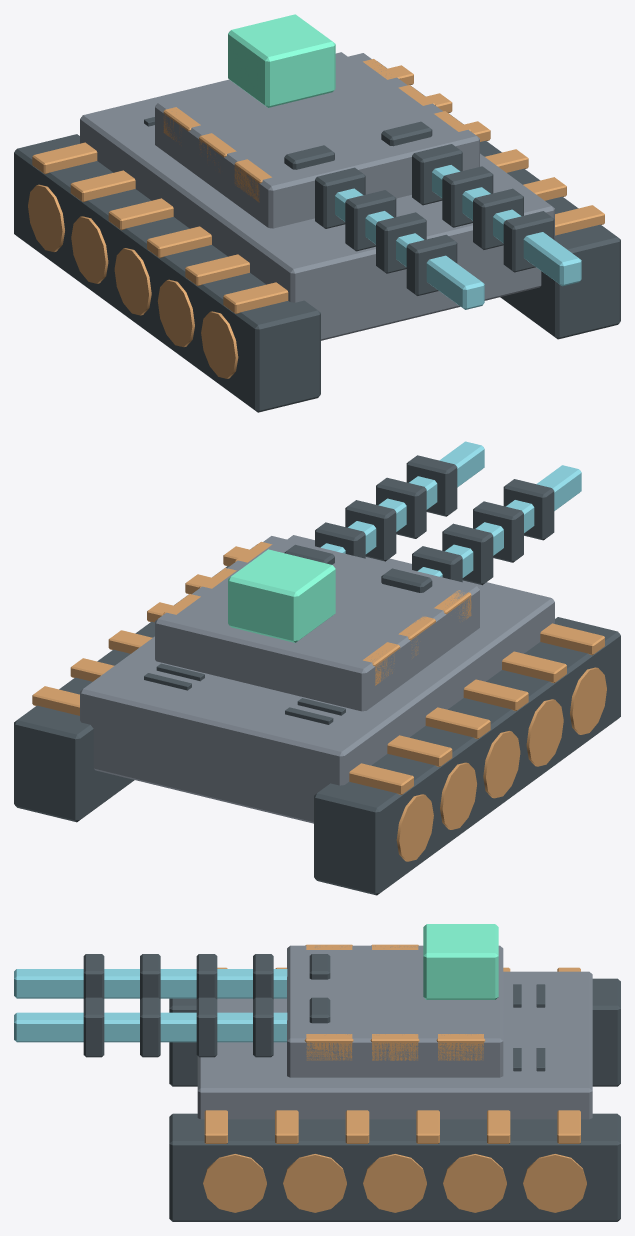
File: boss-rail.glb
3 views of the same model, one above another, from view 1: azimuth 30°, elevation 25°; view 2: azimuth 150°, elevation 25°; view 3: azimuth 270°, elevation 25° (orthographic). The views are drawn at different scales.
Visible parts, largest first — view 1: Chassis, TurretArmor, Track, Track.001, Core, Rail, Rail.001, Detail armored wheel, Detail armored wheel.002, Detail armored wheel.003, Detail armored wheel.001, Detail armored wheel.004 (+21 smaller); view 2: Chassis, TurretArmor, Track, Track.001, Core, Rail.001, Rail, Detail armored wheel.002, Detail armored wheel.001, Detail armored wheel.004, Detail armored wheel, Detail armored wheel.003 (+19 smaller); view 3: Track.001, Chassis, TurretArmor, Rail.001, Rail, Core, Track, Detail armored wheel.006, Detail armored wheel.009, Detail armored wheel.005, Detail armored wheel.007, Detail armored wheel.008 (+19 smaller).
Boxes of the visible parts, x1,y1,x2,y2 form: Chassis: (80, 52, 554, 340); TurretArmor: (155, 53, 479, 228); Track: (14, 134, 320, 412); Track.001: (377, 61, 620, 339); Core: (228, 14, 335, 107); Rail: (335, 188, 484, 309); Rail.001: (432, 165, 581, 286); Detail armored wheel: (201, 311, 238, 378); Detail armored wheel.002: (114, 248, 151, 315); Detail armored wheel.003: (71, 216, 108, 283); Detail armored wheel.001: (157, 279, 194, 347); Detail armored wheel.004: (28, 184, 64, 251); Chassis: (80, 535, 554, 823); TurretArmor: (155, 536, 479, 711); Track: (314, 617, 620, 895); Track.001: (14, 544, 257, 822); Core: (228, 549, 335, 642); Rail.001: (320, 441, 484, 554); Rail: (417, 465, 581, 577); Detail armored wheel.002: (483, 731, 520, 798); Detail armored wheel.001: (526, 699, 563, 766); Detail armored wheel.004: (396, 794, 433, 861); Detail armored wheel: (570, 667, 606, 734); Detail armored wheel.003: (440, 762, 476, 829); Track.001: (169, 1113, 620, 1221); Chassis: (197, 971, 592, 1119); TurretArmor: (287, 945, 503, 1077); Rail.001: (14, 1012, 287, 1042); Rail: (14, 969, 287, 998); Core: (423, 924, 498, 999); Track: (169, 978, 620, 1086); Detail armored wheel.006: (283, 1154, 346, 1212); Detail armored wheel.009: (523, 1154, 586, 1212); Detail armored wheel.005: (203, 1154, 266, 1212); Detail armored wheel.007: (363, 1154, 426, 1212); Detail armored wheel.008: (443, 1154, 506, 1212).
Bounding box in the file's own units: 4.21 × 2.37 × 6.45.
